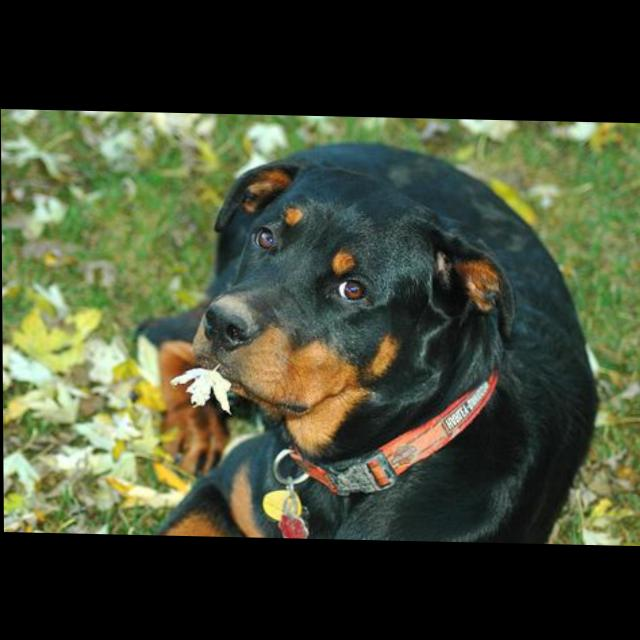rottweiler: (130, 134, 602, 543)
